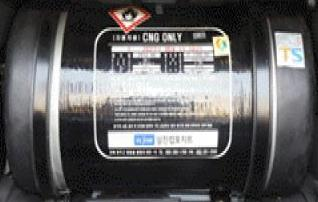cylinder: (1, 1, 318, 202)
